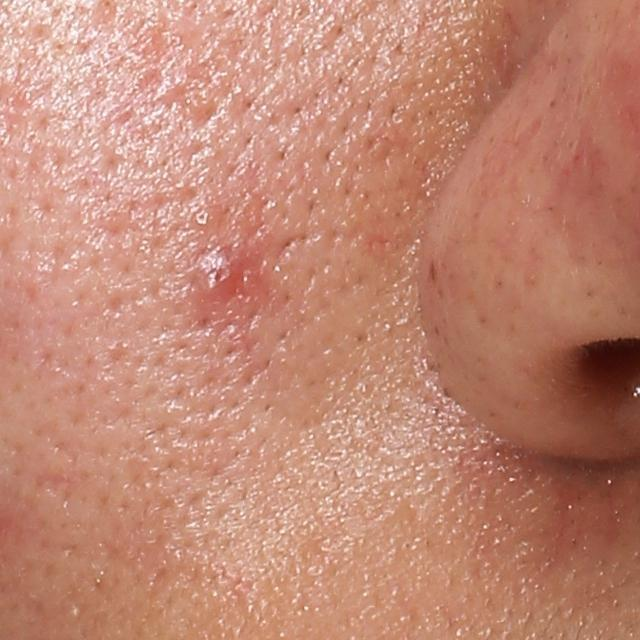atrophic_scar: (31, 467, 80, 501)
comedo: (188, 205, 213, 232)
papule: (195, 251, 247, 300)
